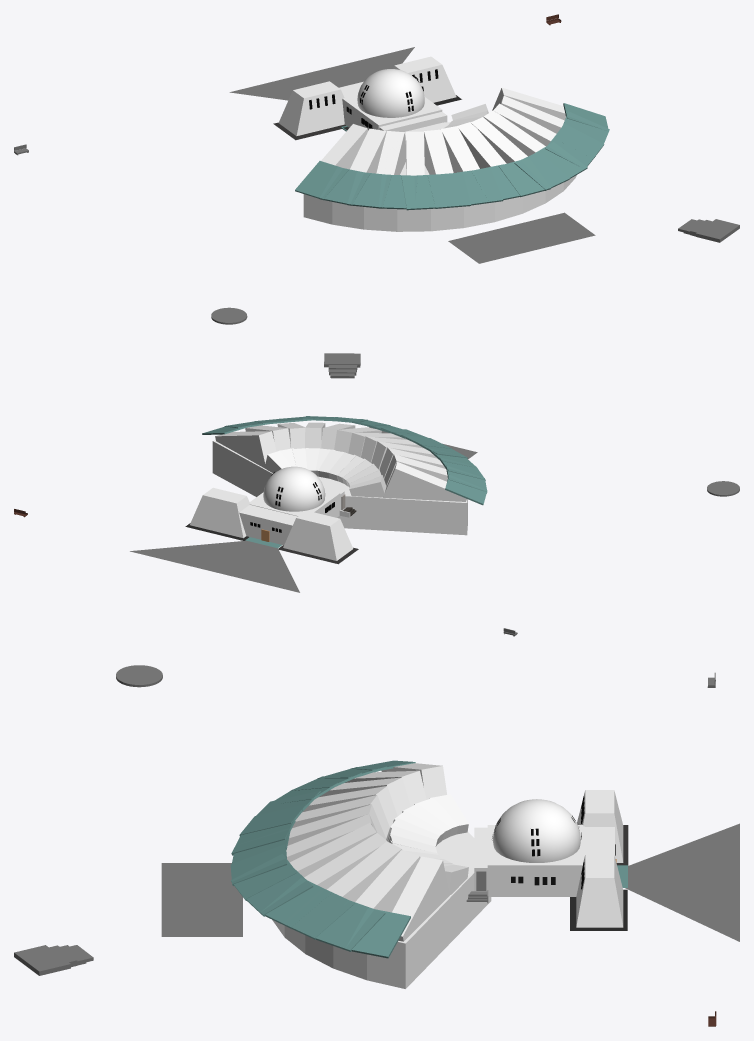
File: asmundarsafn_cpy_to_test_15.obj
3 renders of one model, top to bottom at view 1: azimuth 30°, elevation 25°; view 2: azimuth 150°, elevation 25°; view 3: azimuth 270°, elevation 25°, orthographic. The views are drawn at different scales.
Visible parts, largest first — view 1: Cube.047, Cube.033, syningarsalur, Plane.035, pavement, Sphere, h_hlid, v_hlid, innanhus, Cube, Cube.019, Cylinder; view 2: Cube.033, syningarsalur, pavement, Cube.047, h_hlid, Sphere, v_hlid, adaldyr, Cube, innanhus; view 3: Cube.033, Cube.047, pavement, syningarsalur, Plane.035, Sphere, innanhus, v_hlid, h_hlid, Cube, adaldyr, Cylinder (+2 smaller).
Boxes of the visible parts, x1,y1,x2,y2 form: Cube.047: [295, 103, 609, 210]; Cube.033: [321, 87, 565, 175]; syningarsalur: [303, 122, 576, 231]; Plane.035: [448, 212, 595, 263]; pavement: [229, 47, 414, 100]; Sphere: [357, 69, 424, 117]; h_hlid: [278, 81, 344, 136]; v_hlid: [393, 56, 456, 102]; innanhus: [342, 94, 442, 130]; Cube: [678, 219, 739, 242]; Cube.019: [379, 112, 447, 131]; Cylinder: [211, 307, 247, 324]; Cube.033: [215, 422, 466, 501]; syningarsalur: [212, 440, 467, 535]; pavement: [130, 540, 299, 592]; Cube.047: [202, 416, 487, 505]; h_hlid: [283, 510, 353, 560]; Sphere: [263, 466, 325, 511]; v_hlid: [190, 487, 250, 538]; adaldyr: [239, 505, 297, 545]; Cube: [324, 353, 360, 378]; innanhus: [250, 489, 340, 517]; Cube.033: [286, 763, 468, 941]; Cube.047: [230, 760, 415, 958]; pavement: [625, 823, 739, 941]; syningarsalur: [272, 831, 491, 988]; Plane.035: [161, 863, 242, 936]; Sphere: [493, 799, 580, 862]; innanhus: [487, 825, 584, 896]; v_hlid: [576, 854, 623, 927]; h_hlid: [577, 790, 623, 862]; Cube: [14, 945, 93, 975]; adaldyr: [584, 827, 614, 856]; Cylinder: [116, 665, 162, 687].
Size of the model in its own units: 72.47 by 9.13 by 61.73.
